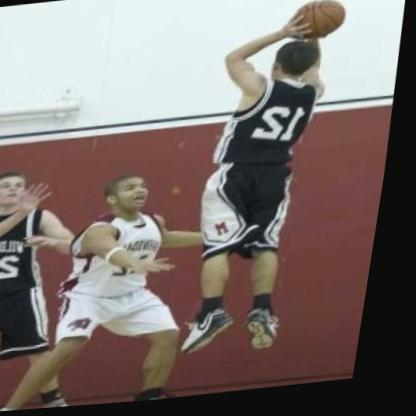basketball: (281, 0, 356, 51)
